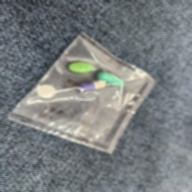러키펜정: (37, 85, 57, 98)
씨엠지세파클러캡슐: (76, 82, 109, 93)
에르도캡슐: (98, 72, 126, 86)
휴티렌정: (68, 61, 96, 74)
